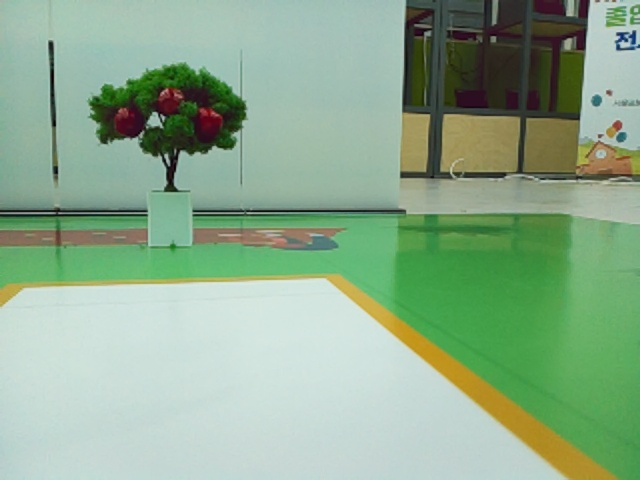apple: (199, 107, 223, 131), (158, 89, 182, 112), (114, 108, 133, 134)
